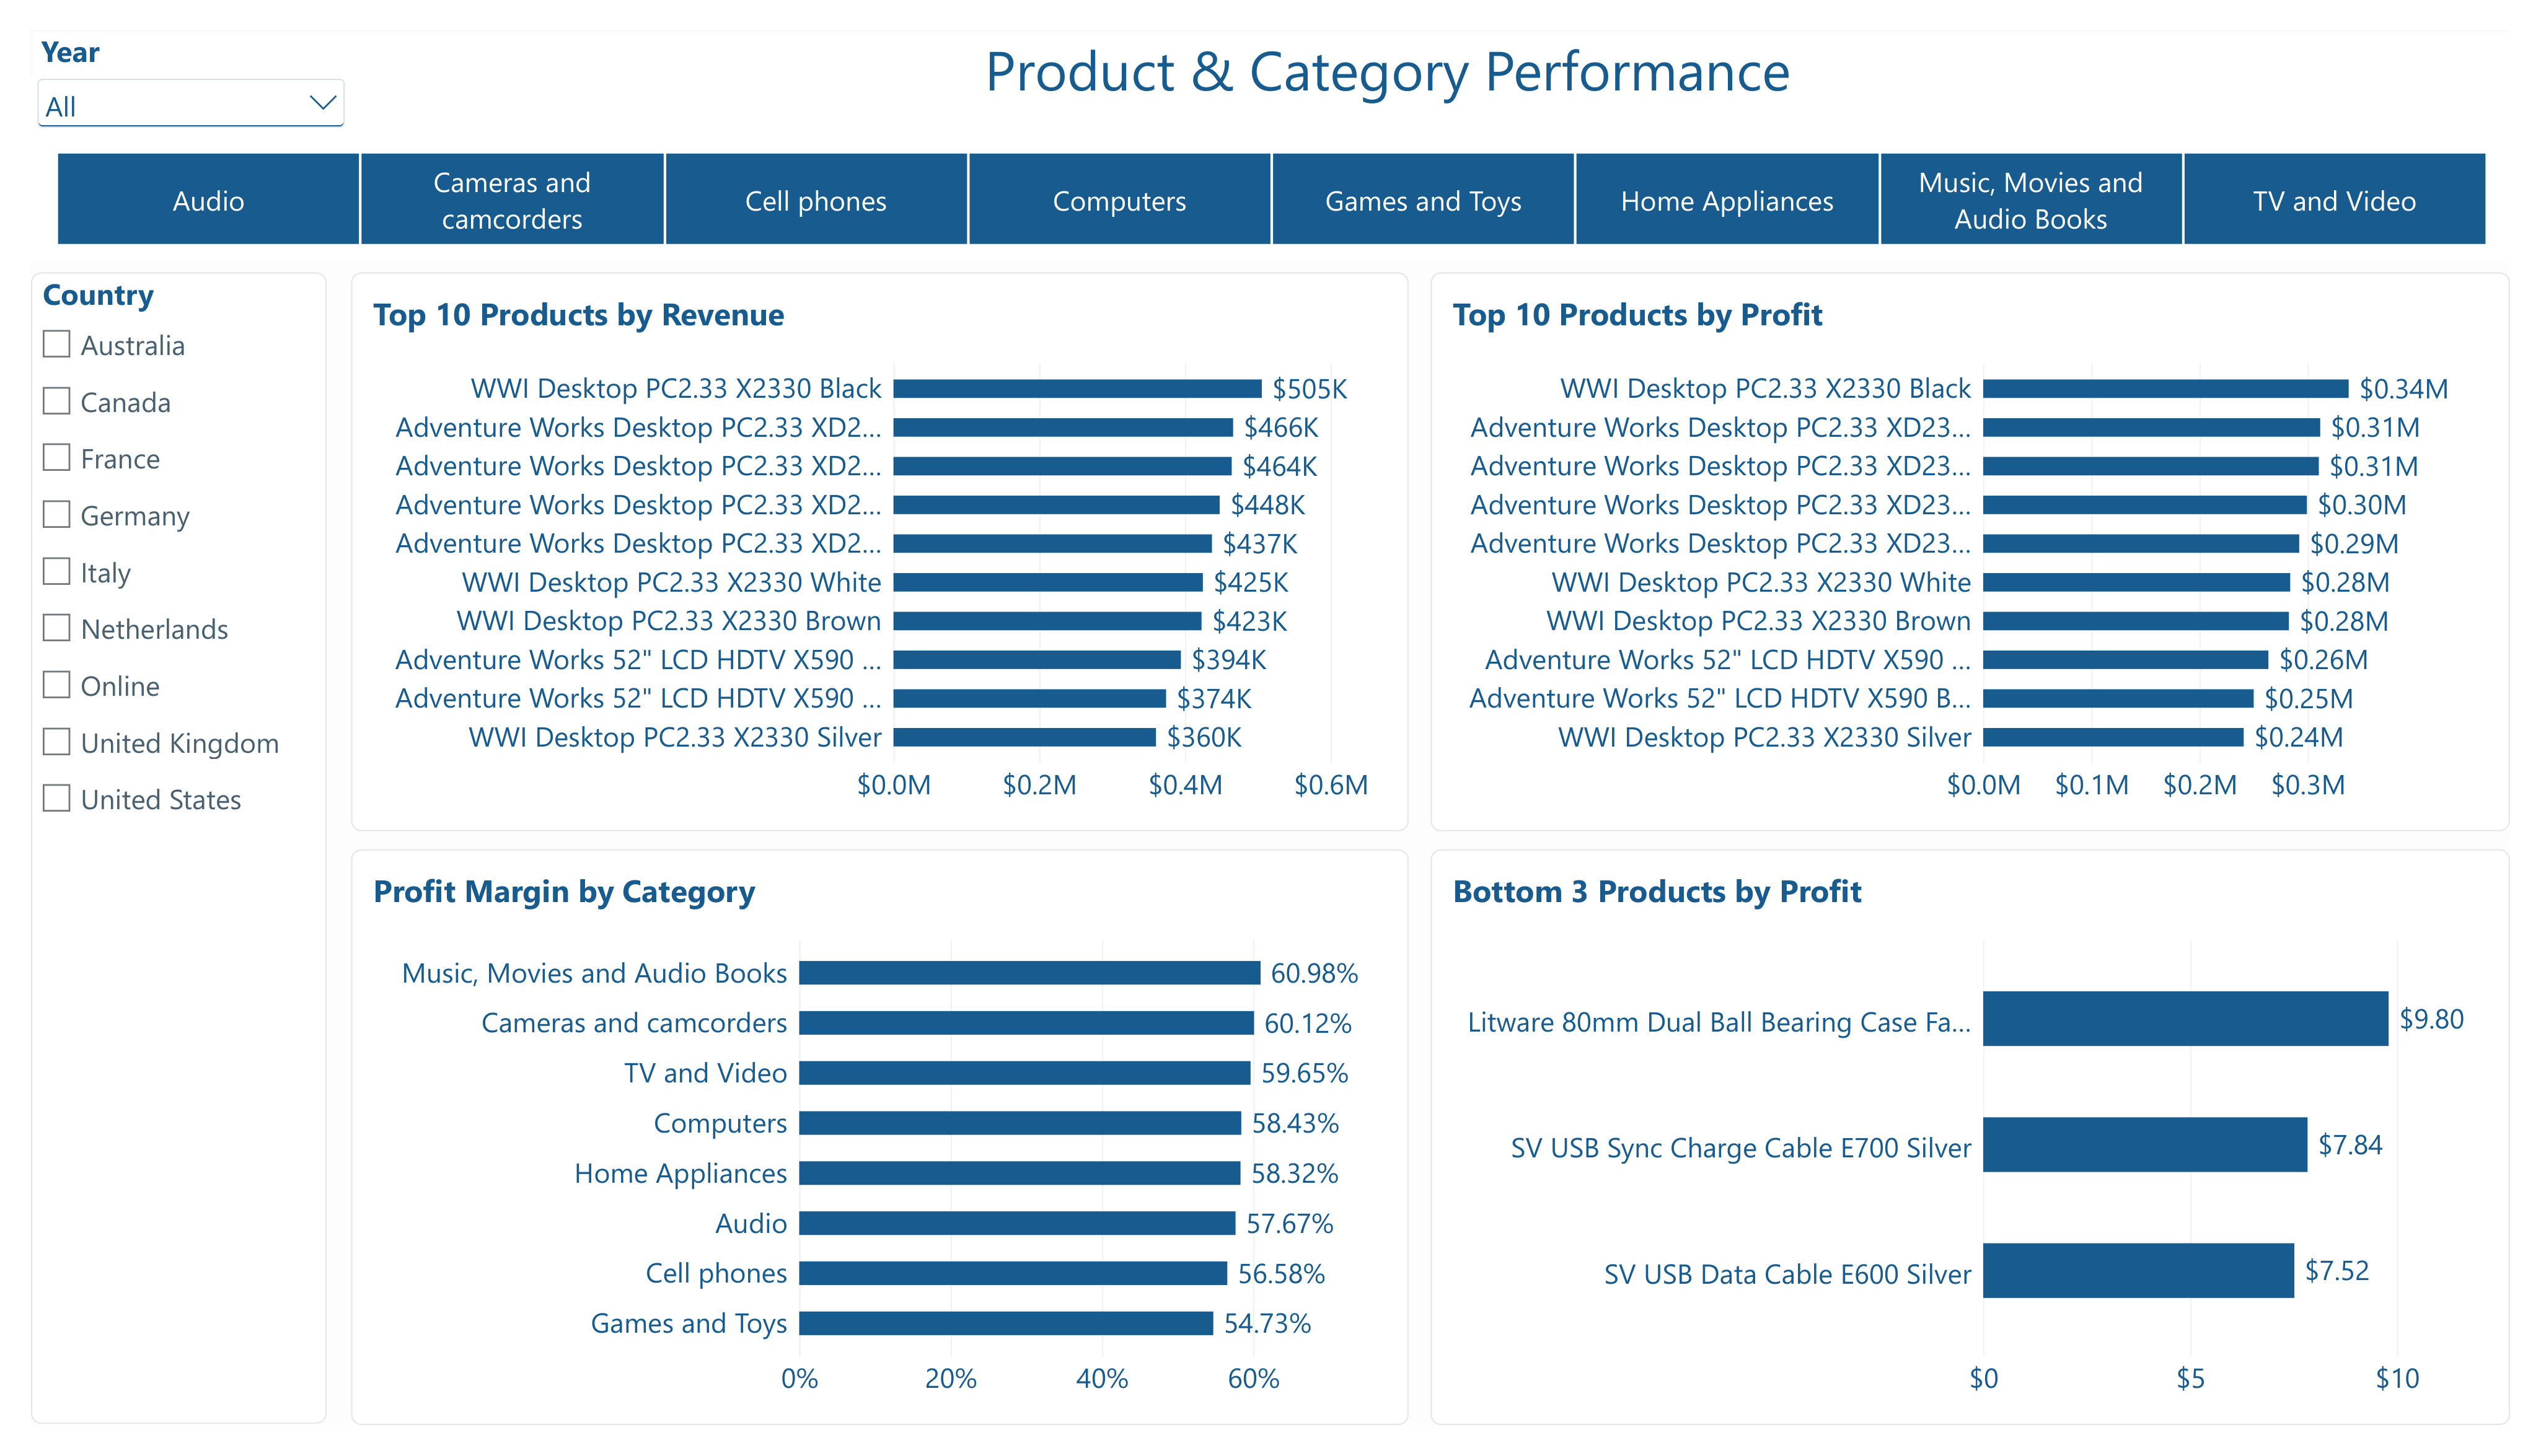

Layout of this report page (visuals, bound fields, positions):
{"tool":"powerbi","page":{"name":"Product & Category Performance","canvas":[1920,1080],"ordinal":1},"visuals":[{"type":"clusteredBarChart","title":"Top 10 Products by Revenue","fields":{"Category":["Products.Product Name"],"Y":["_Mesures.Total Revenue"]},"box":[247.9,187.4,818.9,432.3],"z":0},{"type":"clusteredBarChart","title":"Top 10 Products by Profit","fields":{"Category":["Products.Product Name"],"Y":["_Mesures.Total Profit"]},"box":[1084.4,187.4,835.1,432.3],"z":1000},{"type":"clusteredBarChart","title":"Profit Margin by Category","fields":{"Category":["Products.Category"],"Y":["_Mesures.Profit Margin"]},"box":[247.9,634.4,818.9,445.6],"z":2000},{"type":"clusteredBarChart","title":"Bottom 3 Products by Profit","fields":{"Category":["Products.Product Name"],"Y":["_Mesures.Total Profit"]},"box":[1084.4,634.4,835.1,445.6],"z":3000},{"type":"slicer","fields":{"Values":["DateTable.Year Hierarchy.Year"]},"box":[0,0,247.9,82.6],"z":4000},{"type":"slicer","fields":{"Values":["Stores.Country"]},"box":[0,187.4,228.7,891.1],"z":5000},{"type":"textbox","box":[247.9,0,1671.6,82.6],"z":6000},{"type":"slicer","fields":{"Values":["Products.Category"]},"box":[0,82.6,1919.5,94.4],"z":7001}]}

Visuals, with their boxes on the page's 1920x1080 design canvas (x1, y1, x2, y2). These are canvas units, not pixel positions in the 2541x1456 screenshot, which may show the page scaled, cropped or inside an application window:
"Top 10 Products by Revenue" clusteredBarChart: [x1=248, y1=187, x2=1067, y2=620]
"Top 10 Products by Profit" clusteredBarChart: [x1=1084, y1=187, x2=1920, y2=620]
"Profit Margin by Category" clusteredBarChart: [x1=248, y1=634, x2=1067, y2=1080]
"Bottom 3 Products by Profit" clusteredBarChart: [x1=1084, y1=634, x2=1920, y2=1080]
slicer - DateTable.Year Hierarchy.Year: [x1=0, y1=0, x2=248, y2=83]
slicer - Stores.Country: [x1=0, y1=187, x2=229, y2=1078]
textbox: [x1=248, y1=0, x2=1920, y2=83]
slicer - Products.Category: [x1=0, y1=83, x2=1920, y2=177]
